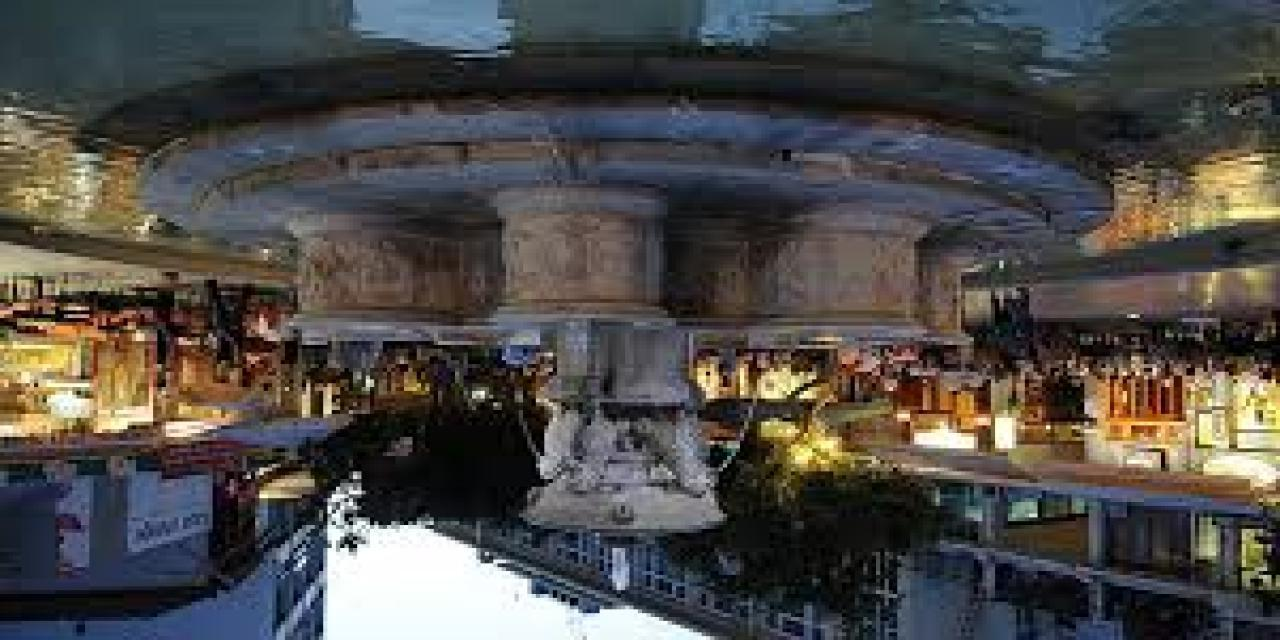Liontaria: (295, 179, 975, 536)
